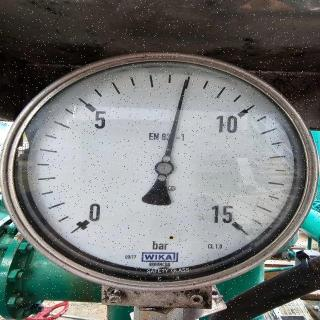gauge: (1, 49, 320, 290), (213, 204, 251, 240), (66, 203, 102, 237), (154, 160, 174, 176), (181, 76, 191, 88)
